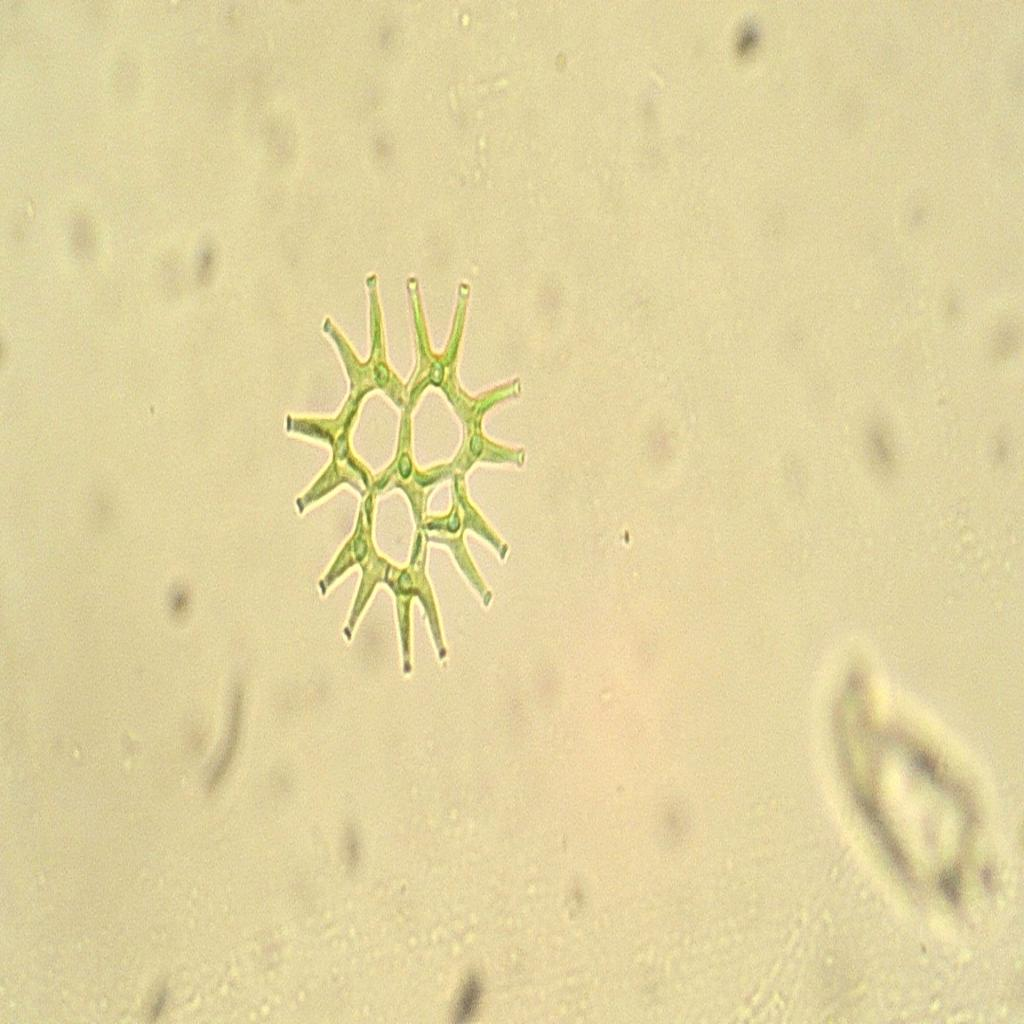Pediastrum_75T: (273, 248, 544, 710)
